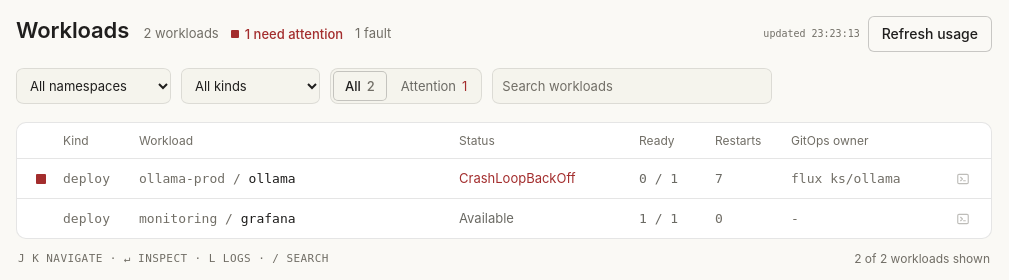
it: WorkloadsView › needs-attention filter hides healthy rows
Click the button "Attention 1".
click(434, 86)  # box [389, 71, 479, 101]
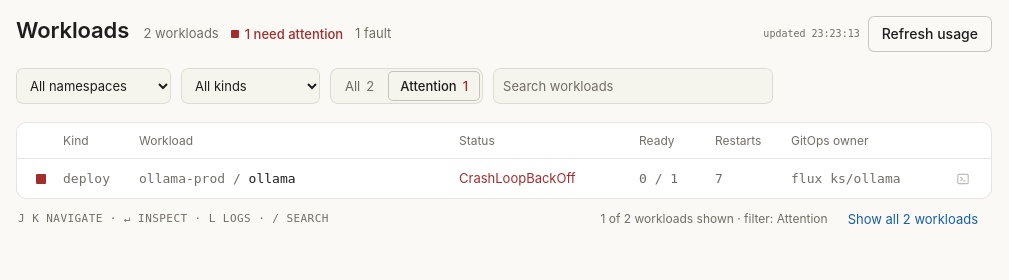
Expected: the text "ollama" is shown, [249, 170, 296, 186]
Now the button "grafana" is gone
